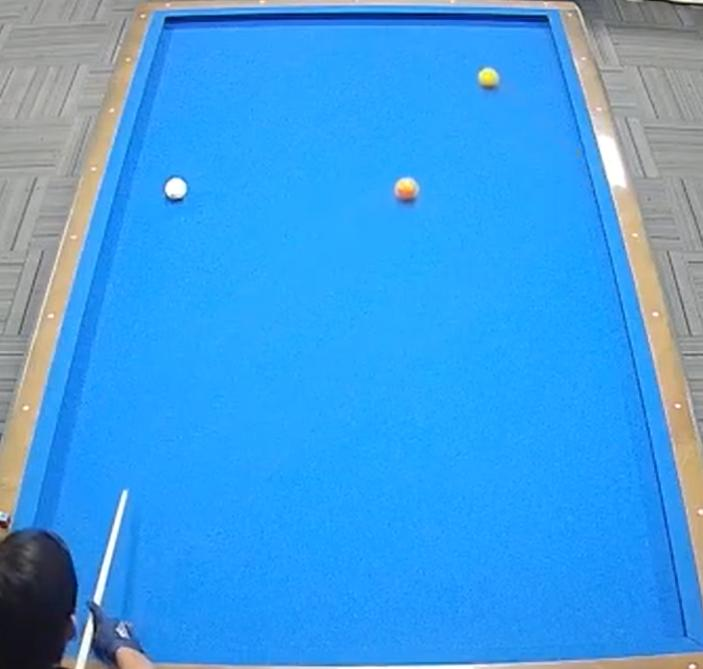orange ball: (388, 172, 426, 205)
white ball: (162, 169, 194, 212)
yellow ball: (473, 63, 503, 94)
